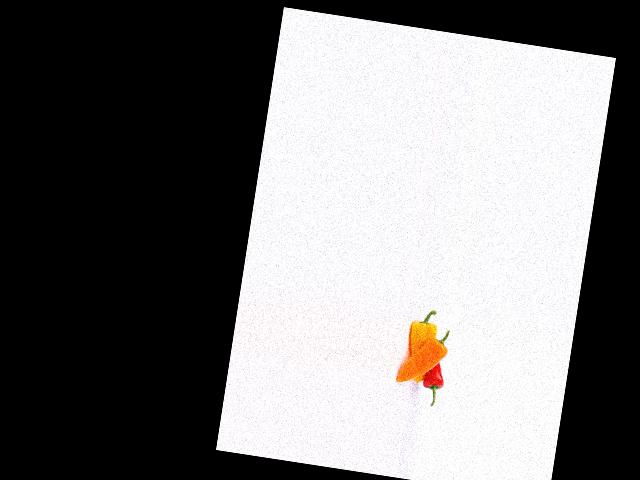bell_pepper: (400, 304, 443, 366)
